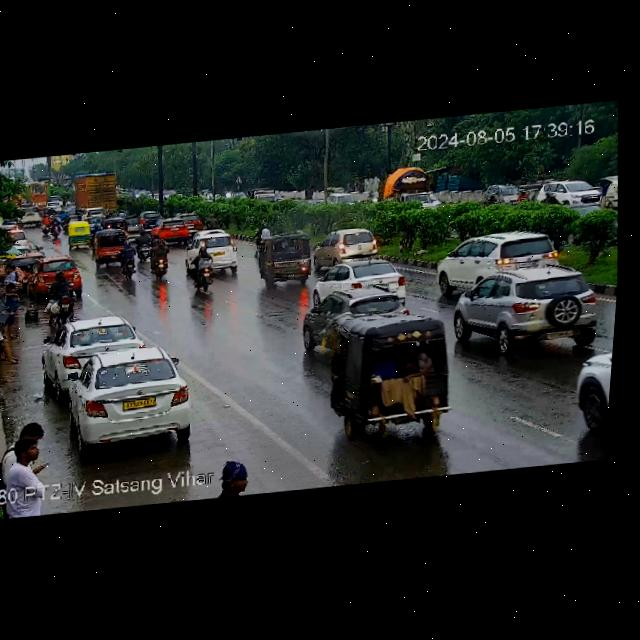car: (319, 301, 465, 442), (446, 255, 611, 356), (60, 343, 199, 451), (433, 227, 563, 292), (294, 282, 411, 354), (44, 312, 141, 381), (304, 256, 411, 304), (563, 339, 613, 432), (256, 231, 317, 287), (24, 255, 86, 305), (184, 230, 243, 282), (310, 226, 380, 268), (527, 175, 604, 207), (92, 229, 130, 266), (102, 215, 143, 240), (152, 218, 191, 243), (484, 181, 520, 207), (66, 220, 96, 248), (16, 201, 44, 229), (177, 211, 204, 232), (138, 208, 163, 229), (103, 216, 129, 230)
motorcycle: (39, 268, 81, 327), (126, 227, 171, 280), (208, 455, 254, 497), (185, 244, 219, 286), (113, 235, 143, 282), (130, 227, 160, 261), (49, 215, 63, 241), (40, 213, 52, 236)
person: (0, 416, 57, 484), (0, 282, 31, 342), (0, 321, 26, 367)
truck: (68, 169, 123, 217)
